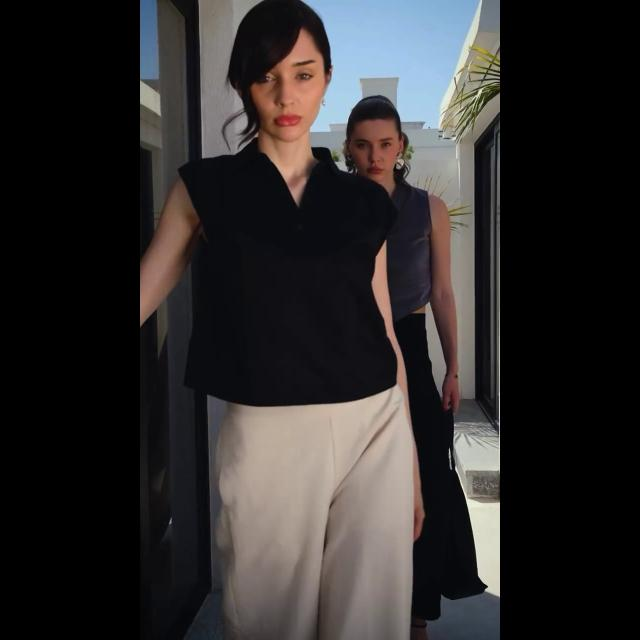bottom: (203, 406, 414, 640)
top: (180, 156, 406, 402)
